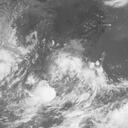cyclone: (48, 47, 101, 95)
